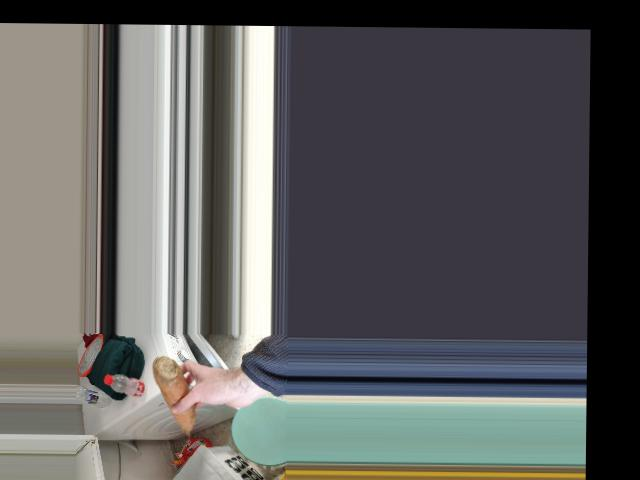sweet_potato: (148, 360, 202, 429)
